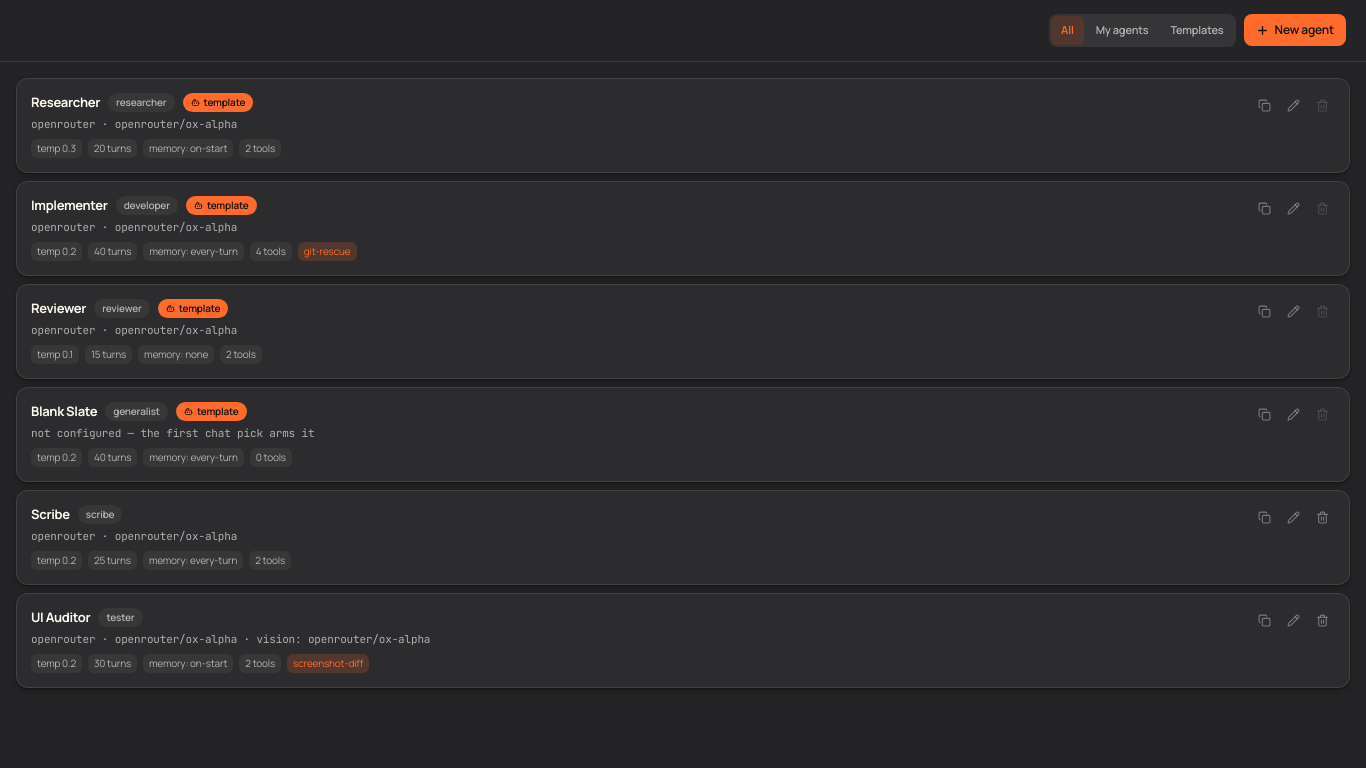
Scenario: AgentsScreen (fixture backend) › blocks submit when required fields are missing
The image size is (1366, 768).
Expected: the text "Implementer" is shown, [31,196,108,215]
Click the button "New agent".
click(1295, 30)  # box [1244,14,1346,46]
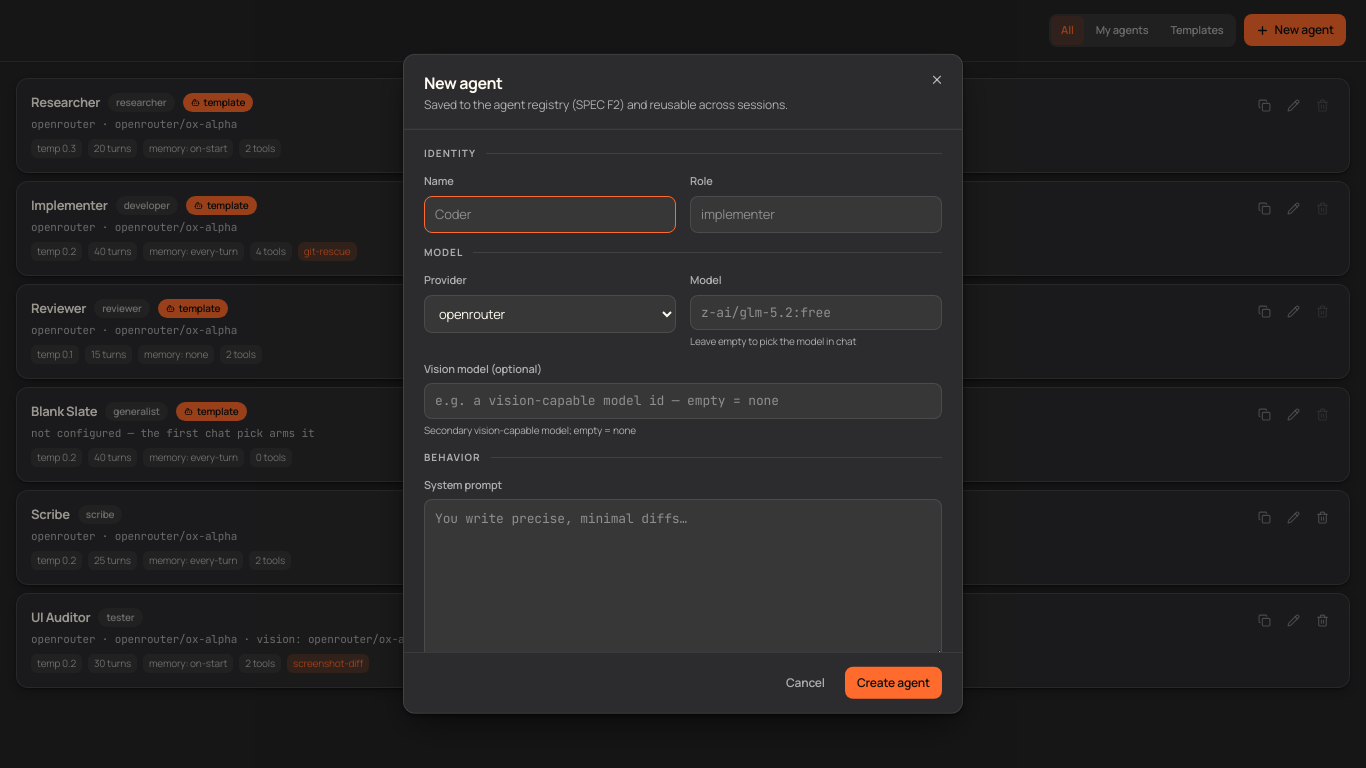
Click the button "Create agent".
click(893, 683)  # box [845,667,942,699]
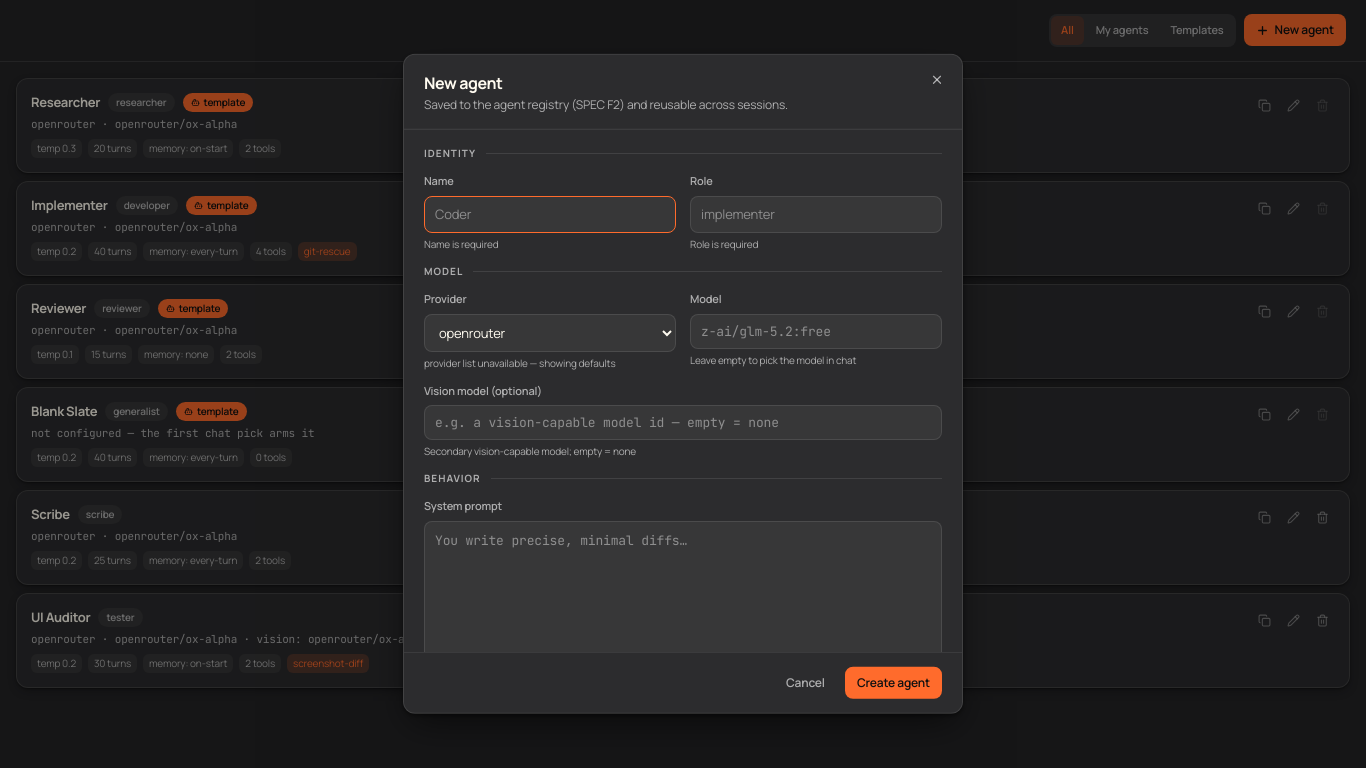
Expected: the text "Name is required" is shown, [424,237,498,251]
Expected: the text "Role is required" is shown, [690,237,758,251]
